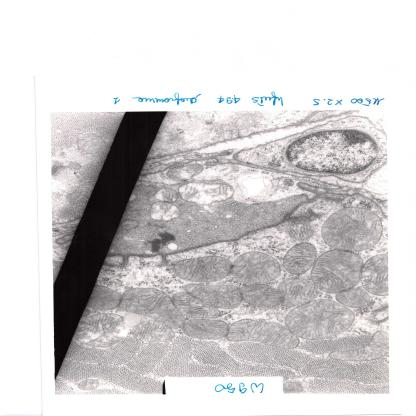mitochondria: (283, 298, 357, 341), (320, 207, 383, 253), (116, 288, 184, 330), (310, 249, 364, 294), (226, 318, 299, 350), (328, 331, 389, 362), (82, 313, 129, 350), (230, 251, 281, 285), (171, 255, 232, 282), (183, 284, 242, 310), (170, 291, 221, 319), (178, 181, 234, 205), (360, 252, 388, 296), (282, 242, 318, 276), (276, 277, 316, 307), (238, 285, 286, 309), (130, 320, 174, 343), (182, 320, 230, 340), (335, 289, 371, 309), (94, 286, 121, 311), (148, 202, 181, 221), (76, 133, 104, 154), (288, 221, 314, 239), (154, 187, 178, 203), (78, 379, 99, 391)
